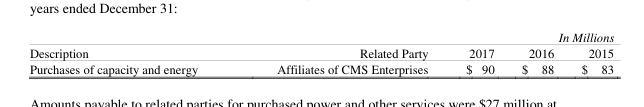table: (28, 28, 613, 76)
table column: (236, 28, 446, 76), (28, 28, 236, 76), (446, 28, 507, 76), (555, 28, 613, 76), (507, 28, 555, 76)
table column header: (28, 28, 613, 59)
table row: (28, 28, 613, 59), (28, 59, 613, 76)
